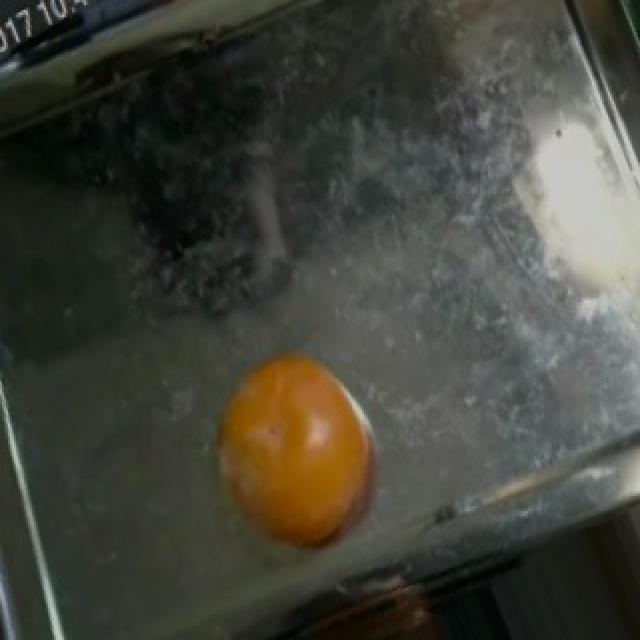Fruit: (192, 338, 398, 570)
